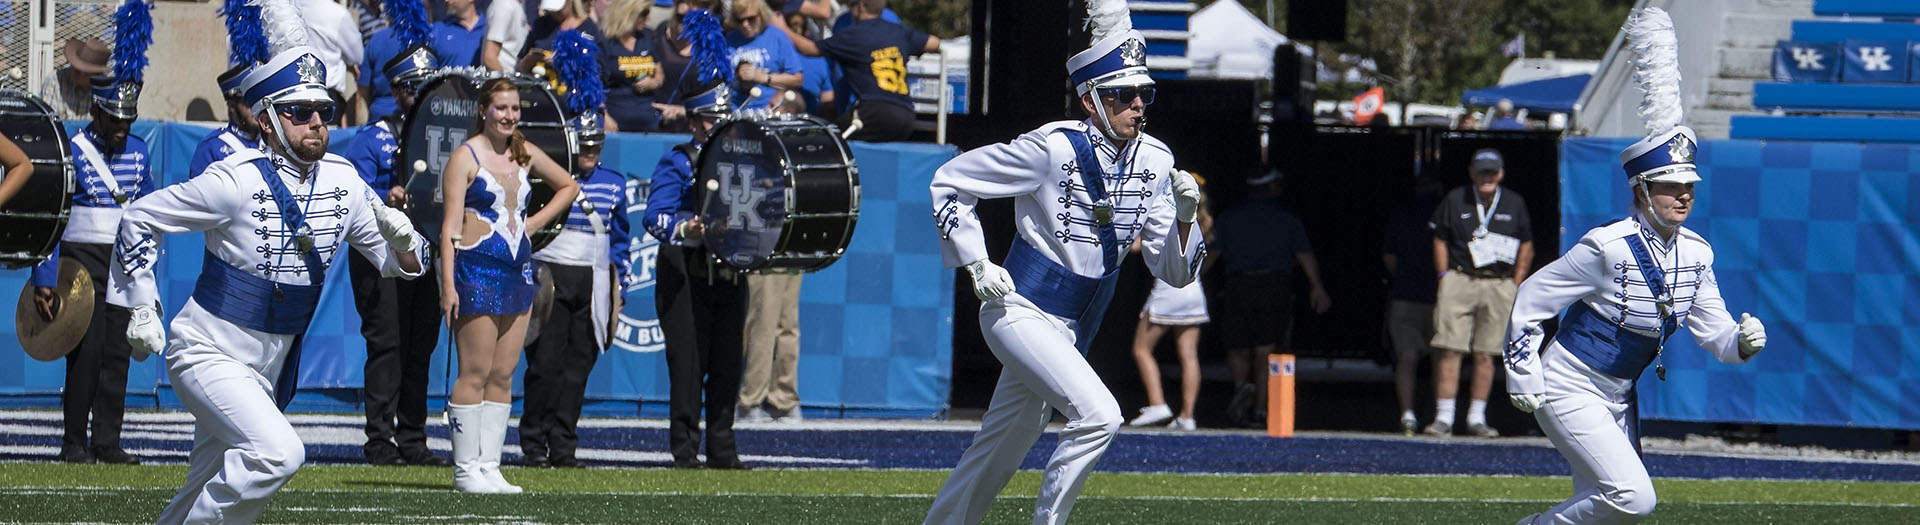feet: (438, 434, 540, 507), (1424, 385, 1505, 456), (1130, 374, 1205, 450), (45, 436, 154, 478), (724, 382, 806, 436), (658, 425, 747, 471), (355, 427, 447, 471), (513, 425, 587, 470)
